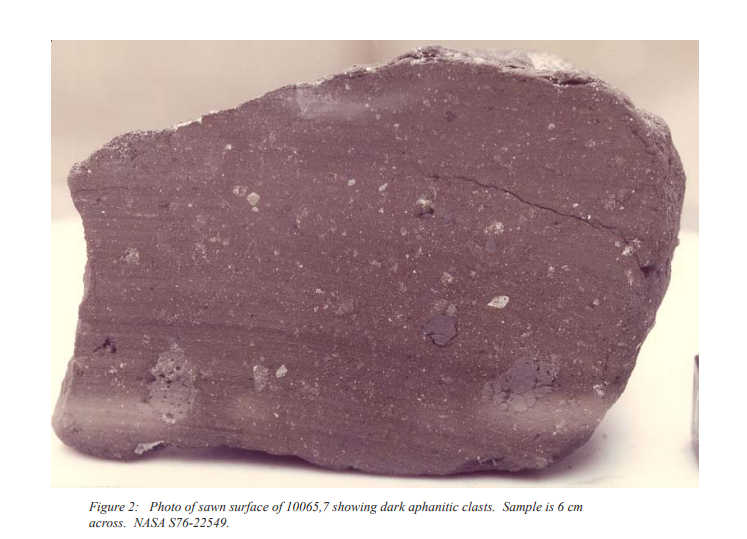Breccia: (82, 77, 653, 463)
